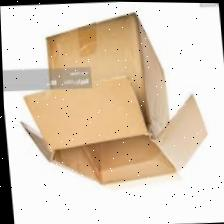cardboard: (37, 3, 210, 202)
